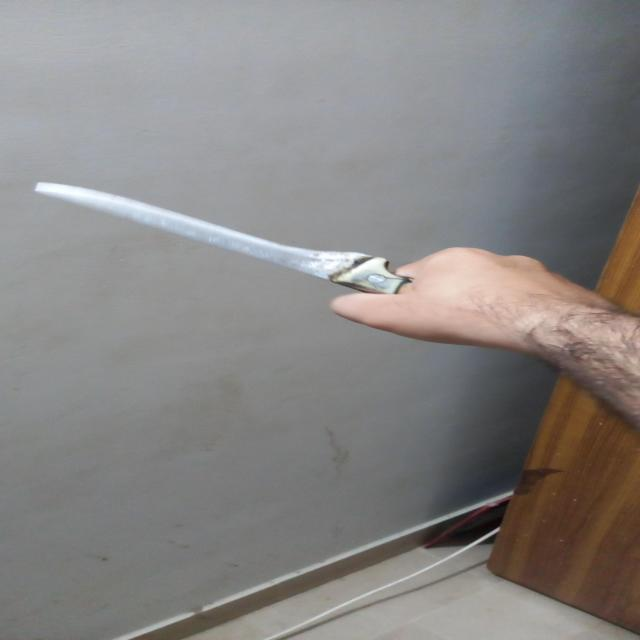faca: (41, 184, 411, 295)
